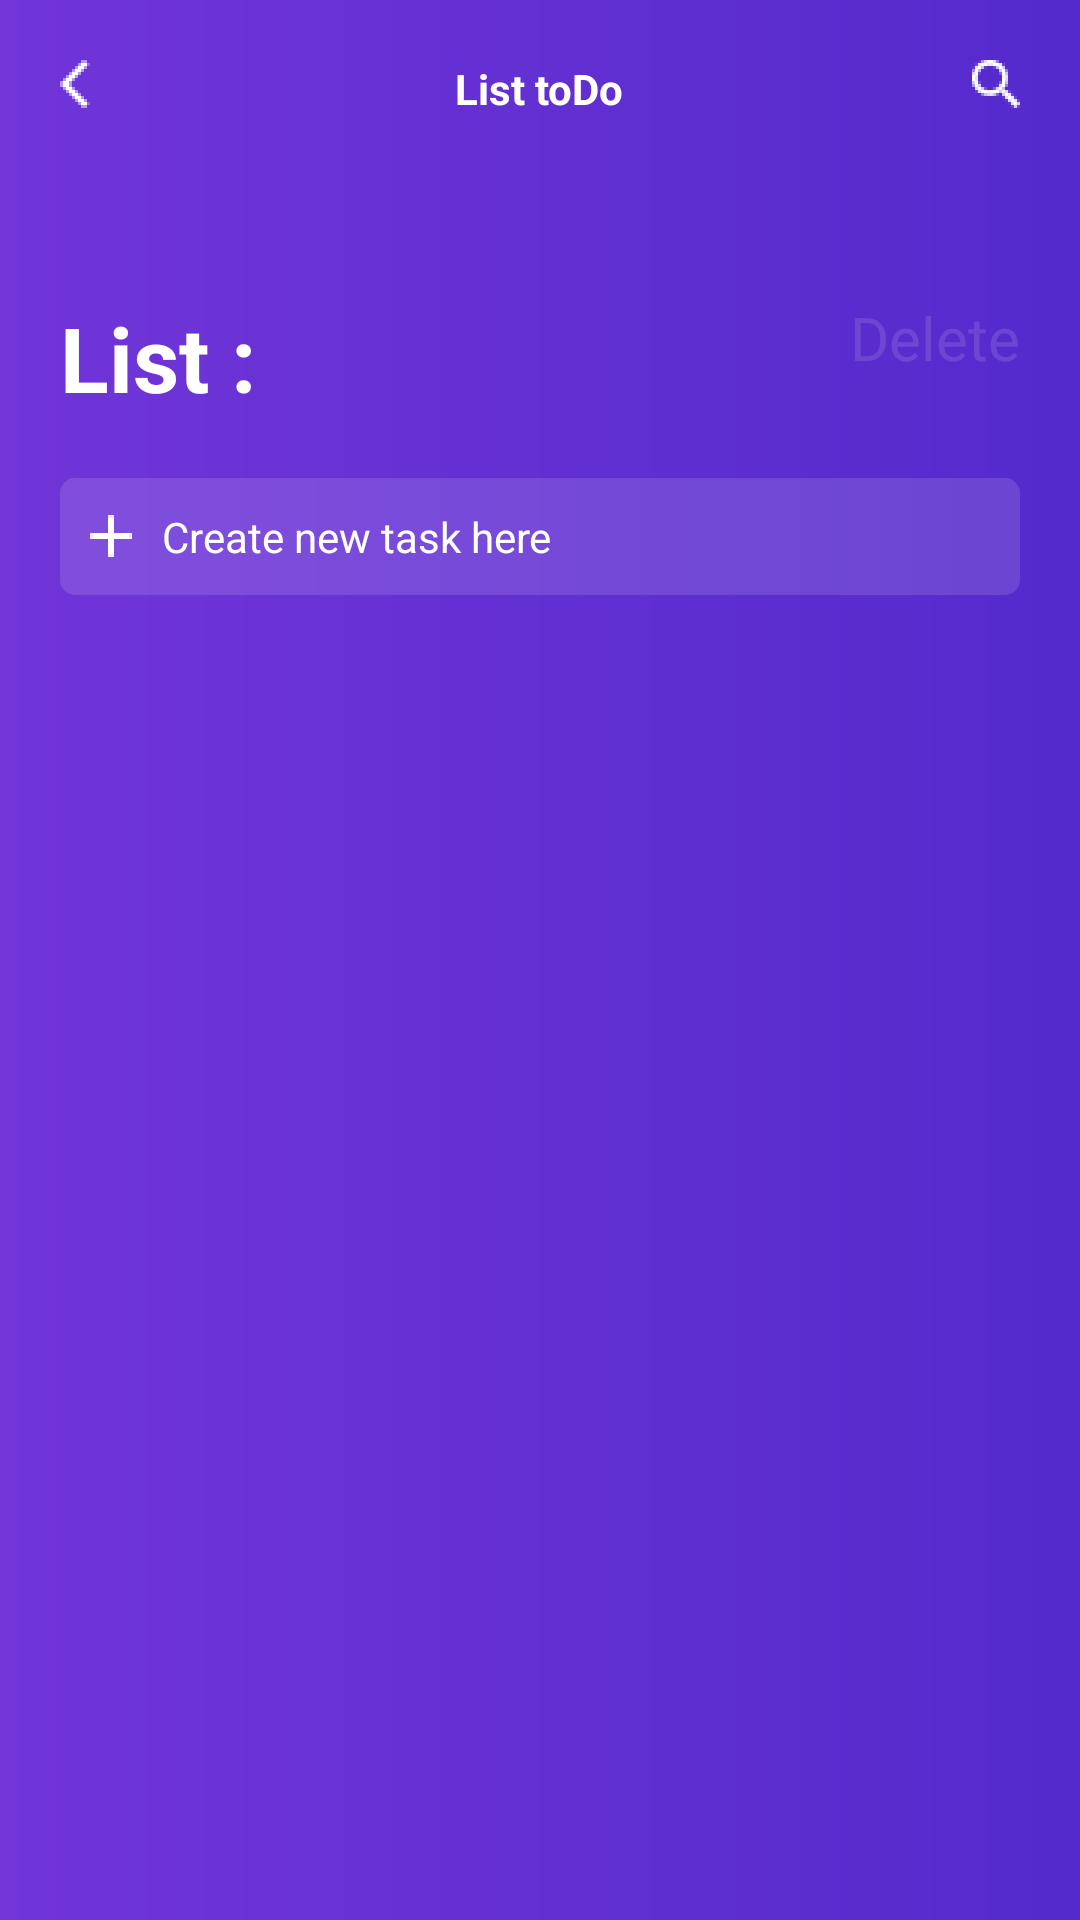

Icons on this 1080w x 1920h Android screen, each with the point to tap as (x,y):
back: (75,84)
plus: (111,536)
search: (996,84)
